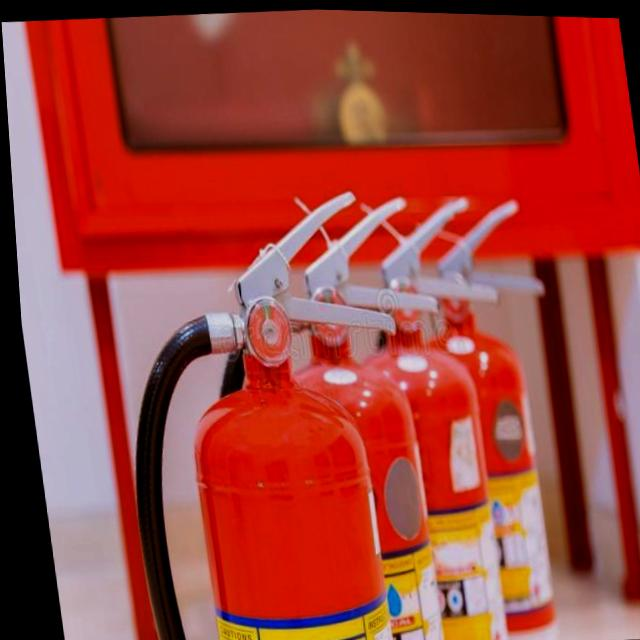FireExtinguisher: (83, 172, 438, 640), (179, 181, 482, 640), (284, 181, 540, 640), (354, 186, 588, 640)
